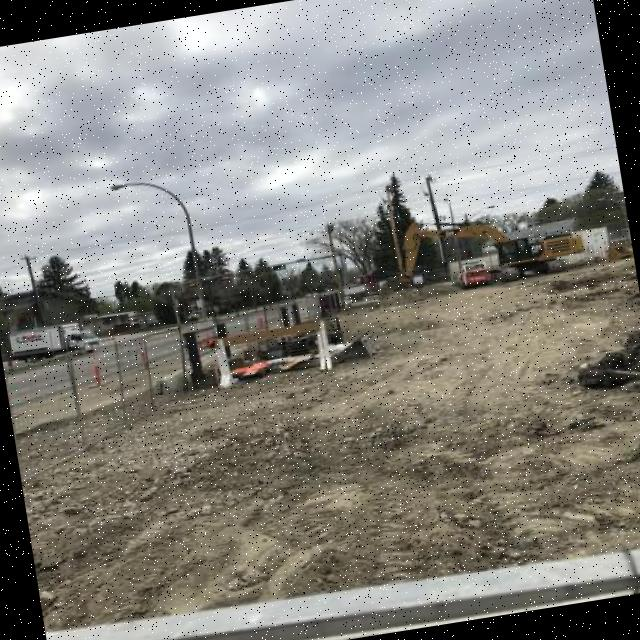Excavator: (196, 55, 302, 282)
